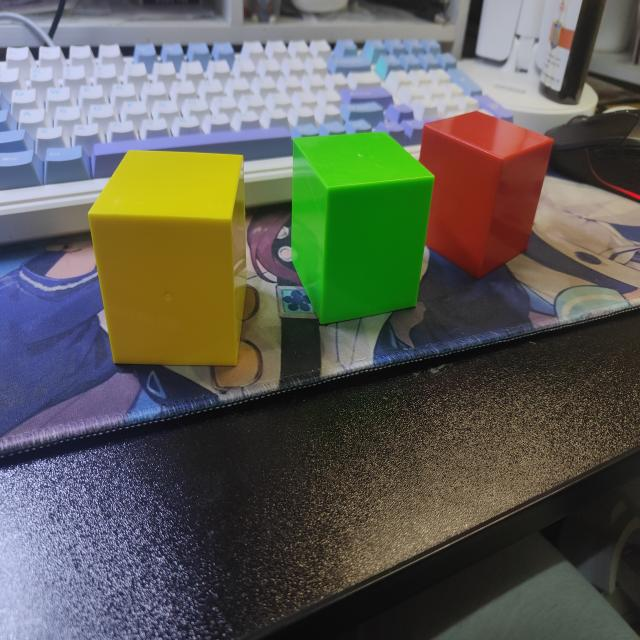green: (290, 132, 435, 327)
red: (418, 110, 554, 281)
yellow: (86, 150, 248, 371)
